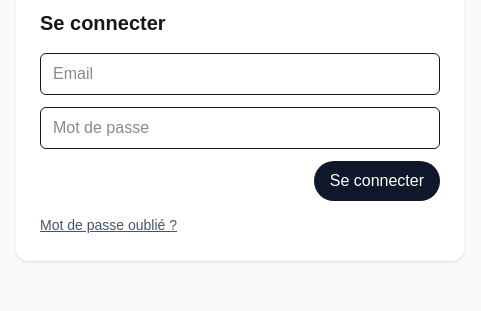
Test case: LoginPage › shows network error message when fetch throws
Click the button "Se connecter" at (377, 181), box [314, 161, 440, 201]
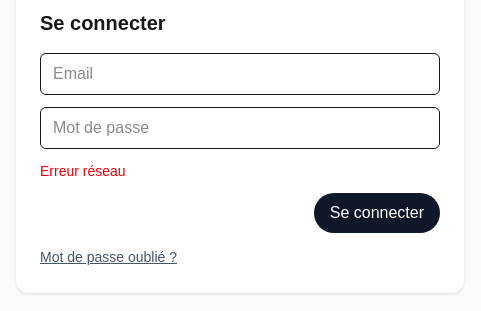
Result: the text "Erreur réseau" is shown at [40, 163, 126, 179]
